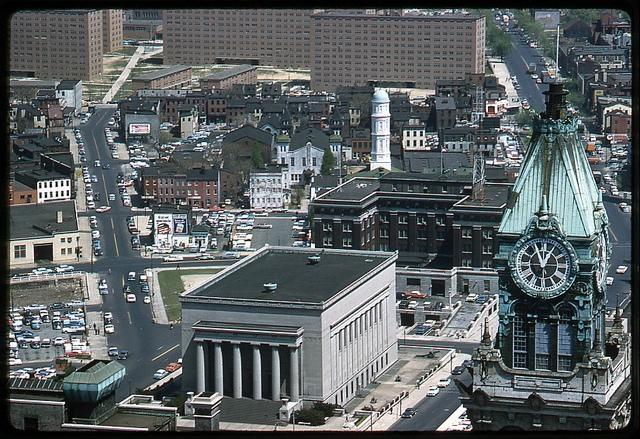car: (95, 205, 112, 213), (253, 223, 273, 229), (126, 294, 137, 302), (139, 274, 147, 284), (143, 295, 151, 303), (102, 163, 111, 170), (142, 284, 149, 292), (124, 284, 131, 292), (108, 194, 115, 202)
truck: (586, 142, 596, 156), (541, 68, 548, 82), (127, 271, 135, 281), (529, 63, 537, 72)
